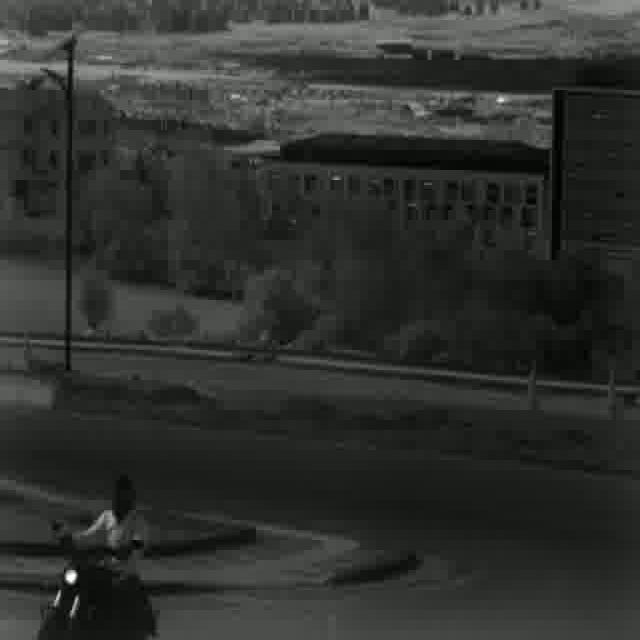Motorcycle: (37, 471, 156, 640)
